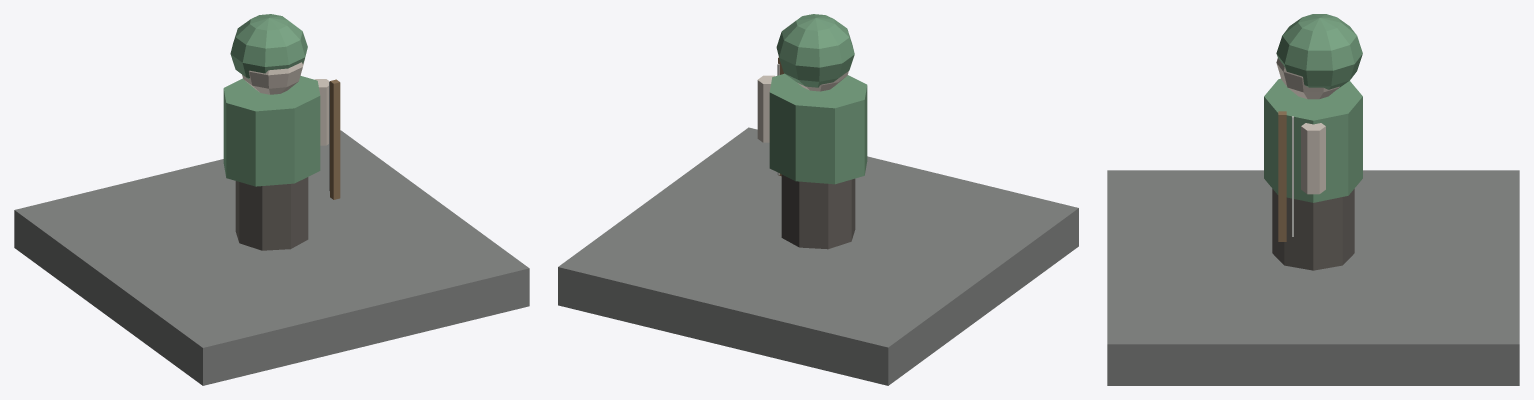
File: elf_archer.glb
3 views of the same model, side by side, from view 1: azimuth 30°, elevation 25°; view 2: azimuth 150°, elevation 25°; view 3: azimuth 270°, elevation 25° (orthographic). The views are drawn at different scales.
Visible parts, largest first — view 1: Base, TurretMesh, ArmMesh; view 2: Base, TurretMesh, ArmMesh; view 3: Base, TurretMesh, ArmMesh.
Boxes of the visible parts, x1,y1,x2,y2 form: Base: [14, 130, 529, 385]; TurretMesh: [223, 14, 320, 250]; ArmMesh: [315, 79, 340, 199]; Base: [558, 127, 1078, 385]; TurretMesh: [769, 14, 867, 249]; ArmMesh: [757, 57, 783, 176]; Base: [1107, 170, 1519, 385]; TurretMesh: [1264, 14, 1362, 270]; ArmMesh: [1278, 111, 1325, 241].
Bounding box in the file's own units: 1.8 × 1.35 × 1.8.
